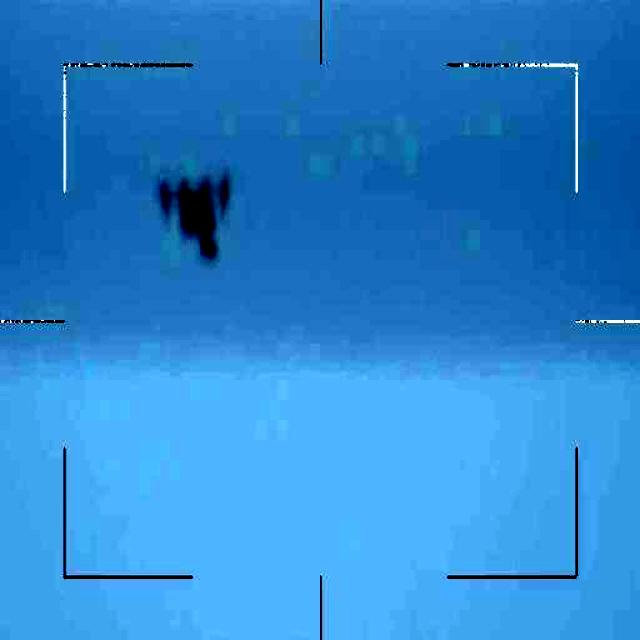bird: (158, 158, 236, 266)
